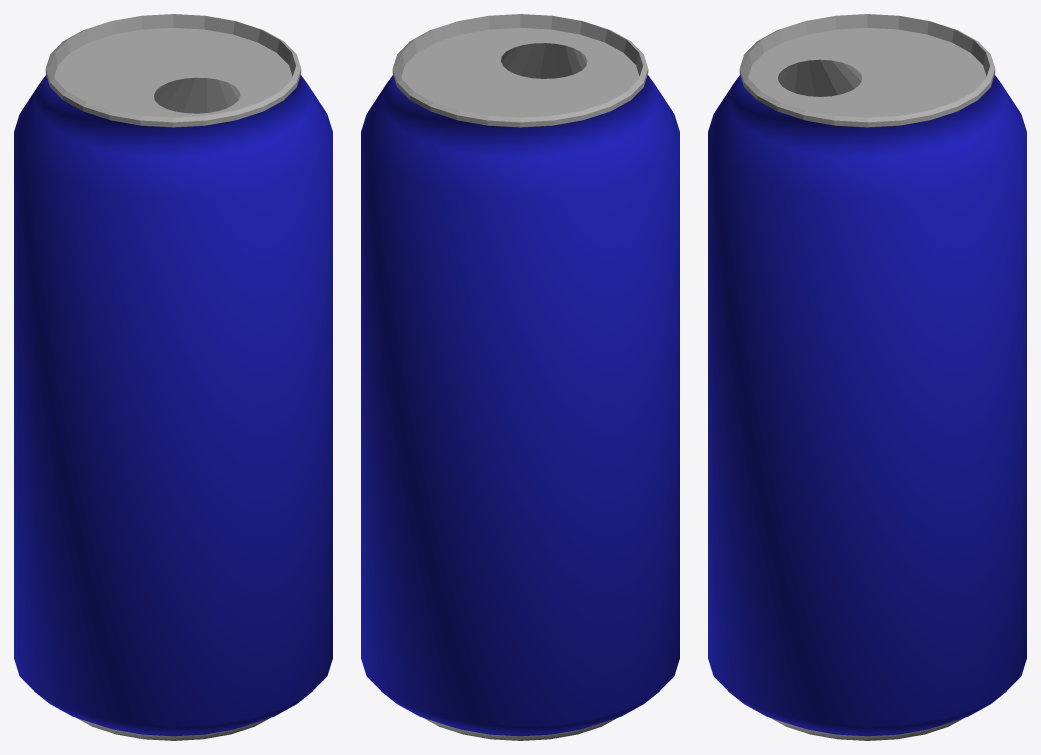
Rendered from SM_Soda_can_Blue.fbx.
3 renders of one model, left to right at view 1: azimuth 30°, elevation 25°; view 2: azimuth 150°, elevation 25°; view 3: azimuth 270°, elevation 25°, orthographic.
Parts seen in each view (by area): view 1: SM_Soda_Can; view 2: SM_Soda_Can; view 3: SM_Soda_Can.
Boxes of the visible parts, <box> form: SM_Soda_Can: <box>14,14,332,740</box>; SM_Soda_Can: <box>361,14,679,740</box>; SM_Soda_Can: <box>708,14,1026,740</box>.
Bounding box in the file's own units: 0.053 × 0.115 × 0.053.
1 material, 1 textured.
